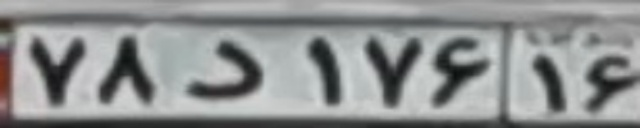1: (304, 33, 341, 105), (533, 49, 568, 112)
6: (430, 35, 488, 108), (582, 50, 635, 113)
7: (359, 31, 425, 110), (27, 33, 83, 105)
8: (93, 32, 158, 106)
dal: (181, 39, 264, 97)
